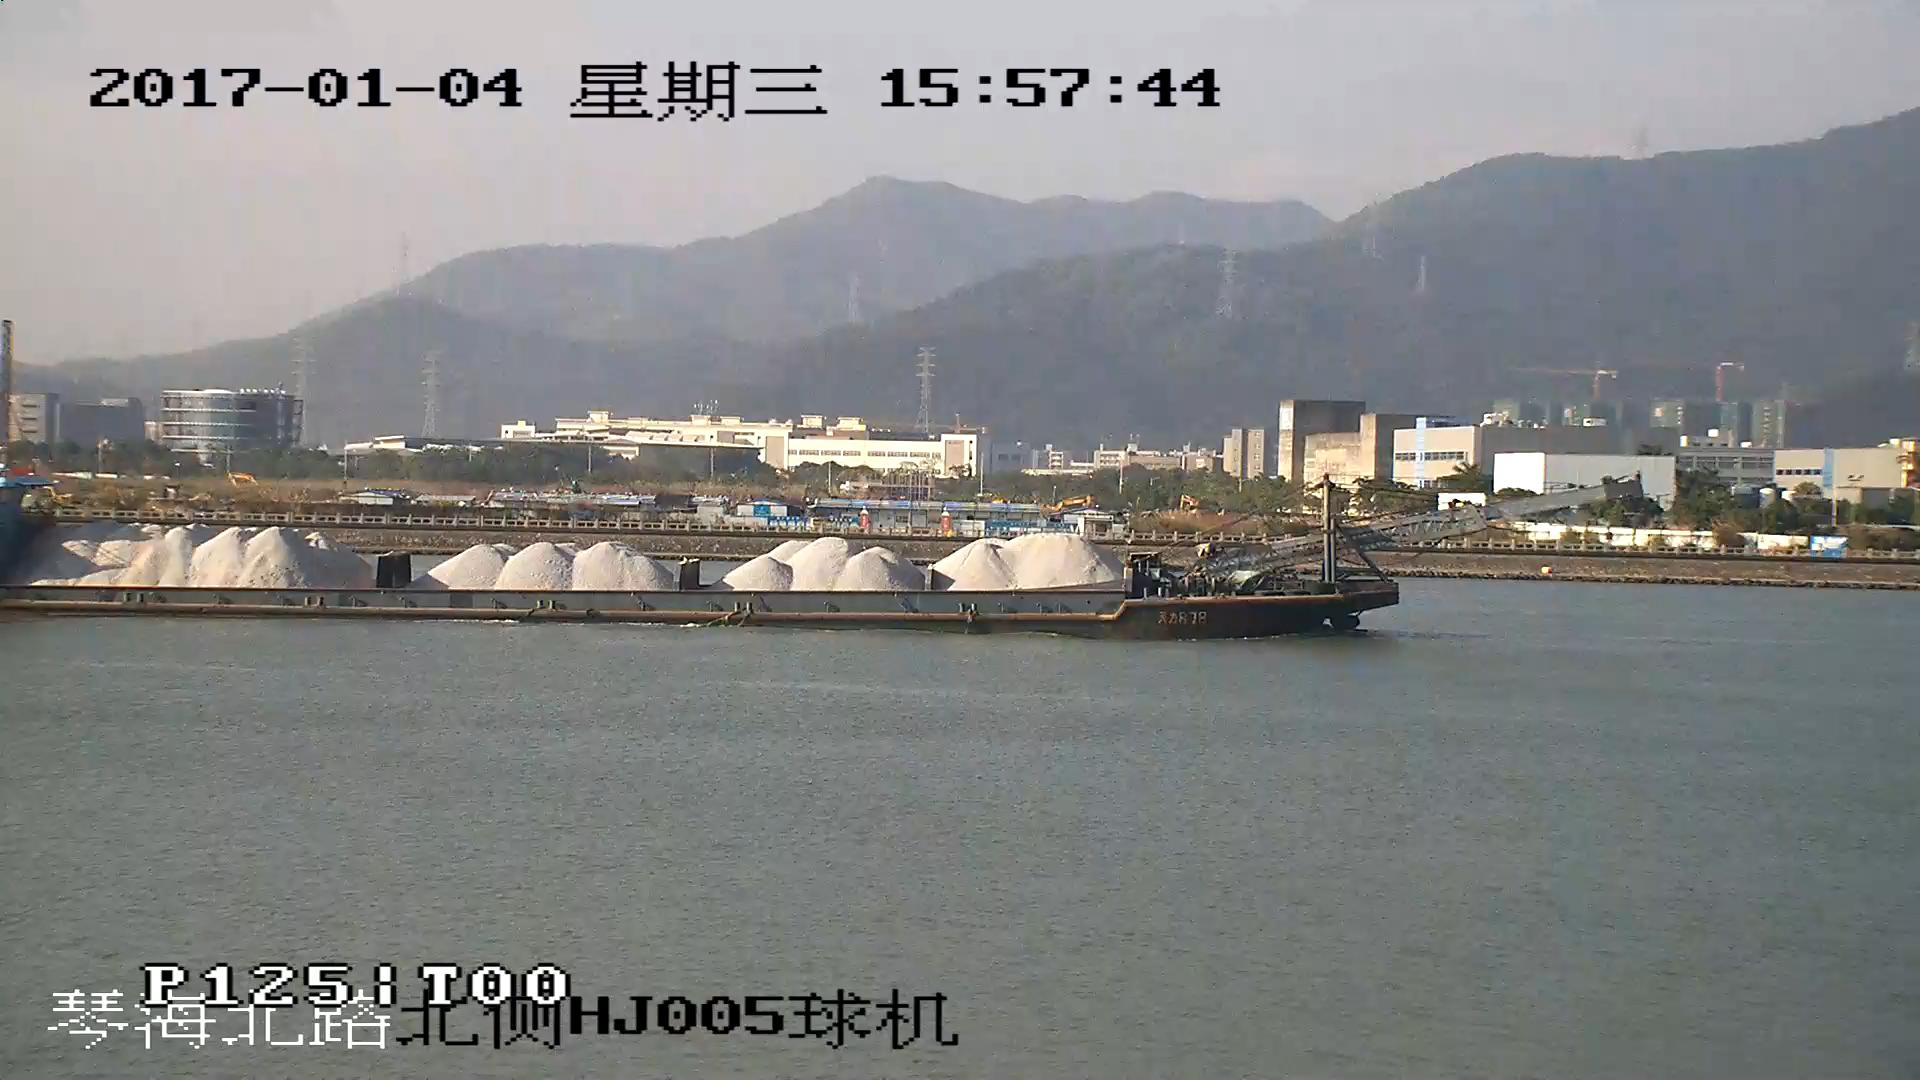ore carrier: (1, 479, 1622, 631)
